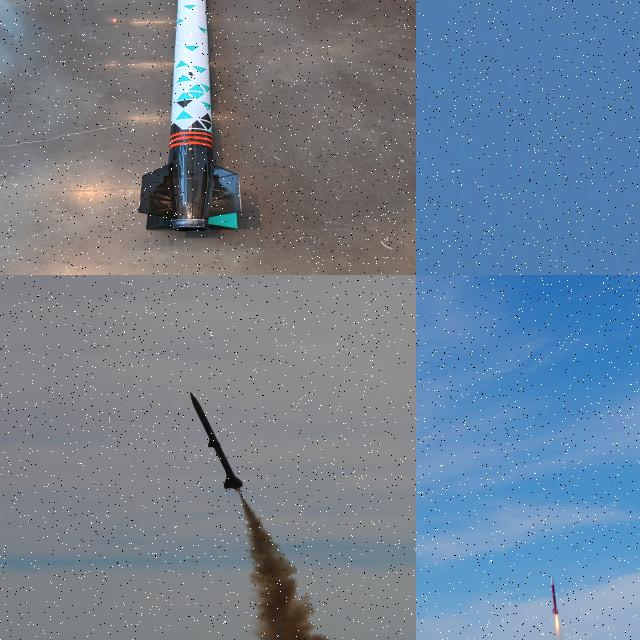Rocket: (137, 0, 243, 233), (188, 391, 247, 493), (550, 576, 560, 615)
